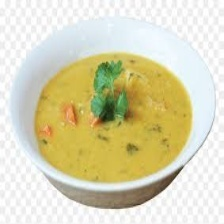dal: (33, 51, 193, 183)
